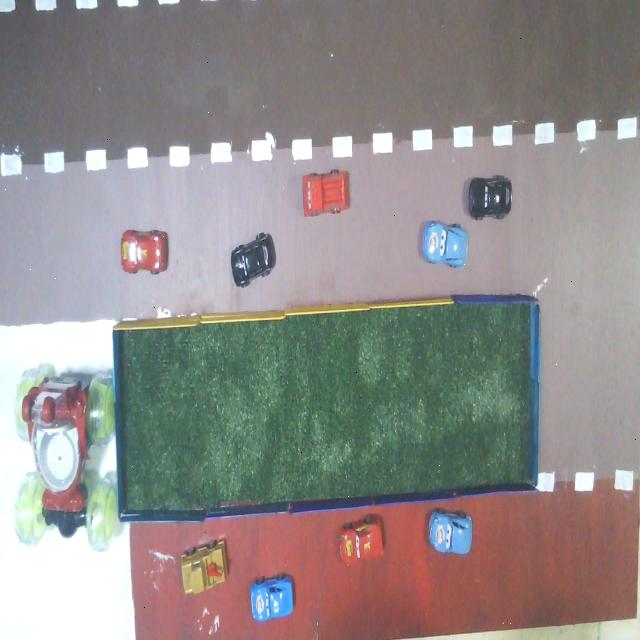emergency car: (15, 367, 116, 551)
small cars: (182, 541, 227, 594), (231, 233, 275, 287), (340, 515, 383, 566), (303, 170, 349, 216), (121, 230, 168, 274), (423, 222, 467, 267), (251, 574, 293, 621), (429, 510, 472, 554), (469, 176, 512, 219)
